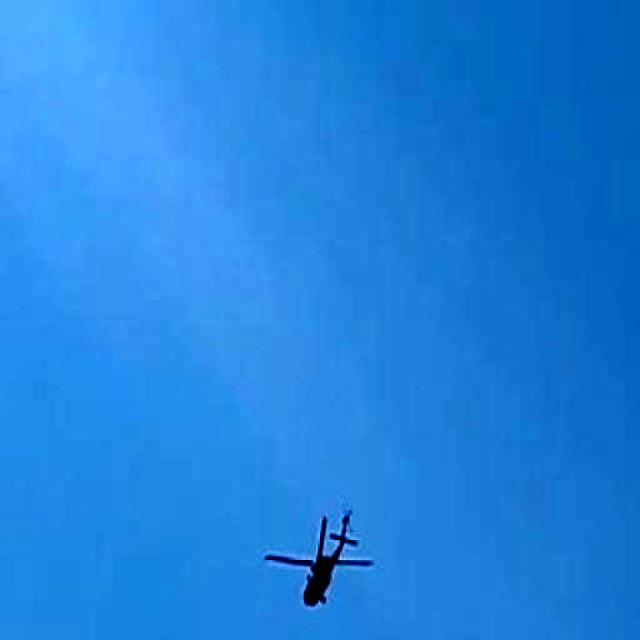drone: (242, 465, 406, 640)
